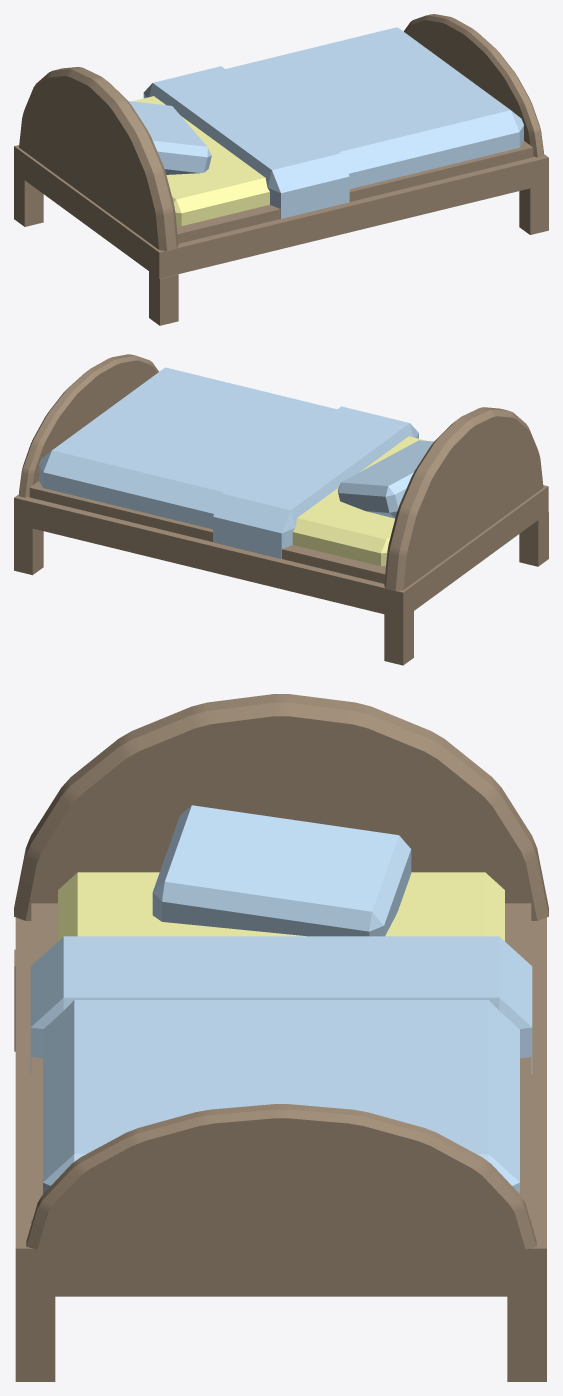
The model's file is bed_fbx_colored.fbx.
The picture shows the model from 3 angles, top to bottom: view 1: azimuth 30°, elevation 25°; view 2: azimuth 150°, elevation 25°; view 3: azimuth 270°, elevation 25°; orthographic projection. The views are drawn at different scales.
Visible parts, largest first — view 1: pCube8, pCylinder1, pCube1, pCube10, pCylinder2, pCube2, pCube9, pCube7, pCube6, pCube3, pCube5; view 2: pCube8, pCylinder1, pCube1, pCube10, pCylinder2, pCube2, pCube9, pCube7, pCube5, pCube4, pCube6; view 3: pCylinder1, pCube8, pCylinder2, pCube1, pCube10, pCube7, pCube2, pCube9, pCube3, pCube4.
Part boxes in pixels (box(x1,y1,x2,y2)): pCube8: box(225, 27, 523, 188); pCylinder1: box(19, 67, 178, 251); pCube1: box(14, 145, 548, 278); pCube10: box(143, 66, 349, 218); pCylinder2: box(404, 14, 543, 157); pCube2: box(133, 96, 269, 226); pCube9: box(176, 141, 533, 243); pCube7: box(128, 101, 211, 174); pCube6: box(149, 271, 178, 325); pCube3: box(519, 184, 548, 234); pCube5: box(14, 172, 43, 226); pCube8: box(39, 367, 336, 529); pCylinder1: box(384, 407, 543, 591); pCube1: box(14, 485, 548, 618); pCube10: box(213, 406, 418, 558); pCylinder2: box(19, 354, 158, 497); pCube2: box(292, 436, 427, 566); pCube9: box(29, 481, 385, 583); pCube7: box(338, 440, 433, 518); pCube5: box(384, 611, 413, 665); pCube4: box(14, 524, 43, 575); pCube6: box(519, 512, 548, 566); pCylinder1: box(14, 694, 548, 920); pCube8: box(43, 1000, 519, 1193); pCylinder2: box(26, 1104, 536, 1253); pCube1: box(15, 917, 546, 1296); pCube10: box(30, 936, 532, 1074); pCube7: box(152, 805, 411, 936); pCube2: box(58, 872, 504, 941); pCube9: box(31, 903, 531, 1223); pCube3: box(15, 1296, 55, 1381); pCube4: box(507, 1296, 546, 1381).
Bounding box in the file's own units: 3.47 × 1.61 × 2.26.
